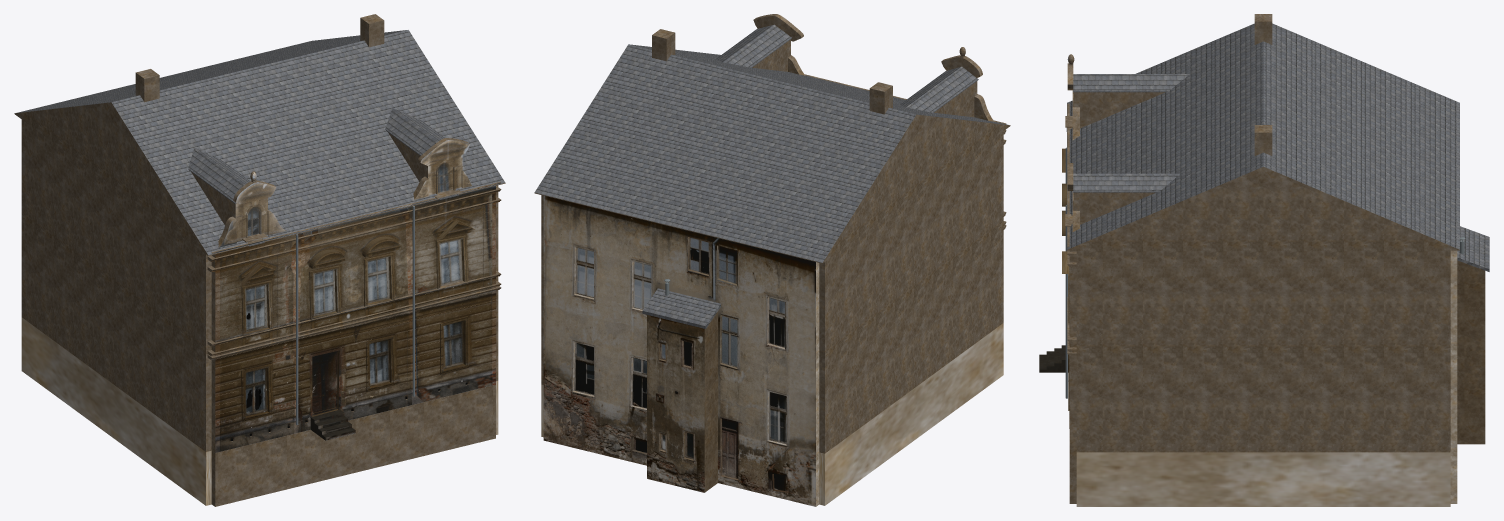
The picture shows the model from 3 angles, left to right: view 1: azimuth 30°, elevation 25°; view 2: azimuth 150°, elevation 25°; view 3: azimuth 270°, elevation 25°; orthographic projection. The views are drawn at different scales.
Parts seen in each view (by area): view 1: full_width_transverse_roof, wall_03, wall_00_G_registered, unobserved_street_foundation_closure_G09c, rear_basement_party_extension, rusticated_course.030, rusticated_course.031, dormer_0_pitched_Roof_G15, dormer_1_pitched_Roof_G15, F0_2_photo_door_G20, ornamental_dormer, cornice.001_profile_G09 (+19 smaller); view 2: full_width_transverse_roof, rear_wall_G09, wall_03, rear_annex_G09, rear_basement_party_extension, rear_lean_to_roof_G09, dormer_0_pitched_Roof_G15, dormer_1_pitched_Roof_G15, RDOOR_photo_glass, R0_1_photo_glass, R0_3_photo_glass, R1_1_photo_glass (+12 smaller); view 3: wall_01, full_width_transverse_roof, rear_basement_party_extension.001, rear_annex_G09, rear_wall_G09, dormer_0_pitched_Roof_G15, dormer_1_pitched_Roof_G15, wall_00_G_registered, ornamental_dormer, ornamental_dormer.001, rear_lean_to_roof_G09, chimney.001 (+1 smaller).
Boxes of the visible parts, bbox=[...] form: full_width_transverse_roof: bbox=[14, 30, 505, 255]; wall_03: bbox=[21, 120, 211, 451]; wall_00_G_registered: bbox=[211, 186, 495, 452]; unobserved_street_foundation_closure_G09c: bbox=[211, 384, 495, 506]; rear_basement_party_extension: bbox=[21, 317, 211, 505]; rusticated_course.030: bbox=[215, 300, 496, 376]; rusticated_course.031: bbox=[215, 291, 496, 367]; dormer_0_pitched_Roof_G15: bbox=[188, 148, 250, 203]; dormer_1_pitched_Roof_G15: bbox=[385, 108, 444, 155]; F0_2_photo_door_G20: bbox=[312, 351, 336, 412]; ornamental_dormer: bbox=[210, 186, 267, 241]; cornice.001_profile_G09: bbox=[207, 280, 501, 356]; full_width_transverse_roof: bbox=[534, 44, 1010, 263]; rear_wall_G09: bbox=[543, 195, 819, 506]; wall_03: bbox=[819, 131, 1003, 453]; rear_annex_G09: bbox=[647, 315, 717, 492]; rear_basement_party_extension: bbox=[819, 323, 1003, 505]; rear_lean_to_roof_G09: bbox=[642, 288, 720, 328]; dormer_0_pitched_Roof_G15: bbox=[900, 66, 978, 112]; dormer_1_pitched_Roof_G15: bbox=[716, 24, 791, 67]; RDOOR_photo_glass: bbox=[722, 419, 738, 477]; R0_1_photo_glass: bbox=[575, 342, 594, 394]; R0_3_photo_glass: bbox=[769, 392, 786, 443]; R1_1_photo_glass: bbox=[576, 247, 593, 297]; wall_01: bbox=[1076, 250, 1450, 452]; full_width_transverse_roof: bbox=[1067, 23, 1459, 250]; rear_basement_party_extension.001: bbox=[1076, 452, 1450, 506]; rear_annex_G09: bbox=[1457, 271, 1485, 444]; rear_wall_G09: bbox=[1450, 250, 1457, 503]; dormer_0_pitched_Roof_G15: bbox=[1073, 74, 1189, 92]; dormer_1_pitched_Roof_G15: bbox=[1073, 173, 1180, 192]; wall_00_G_registered: bbox=[1069, 250, 1076, 449]; ornamental_dormer: bbox=[1073, 92, 1125, 128]; ornamental_dormer.001: bbox=[1073, 192, 1125, 224]; rear_lean_to_roof_G09: bbox=[1457, 226, 1489, 271]; chimney.001: bbox=[1254, 125, 1272, 155].
Bounding box in the file's own units: 12.7 × 14.55 × 16.43.
94 materials, 59 textured.
